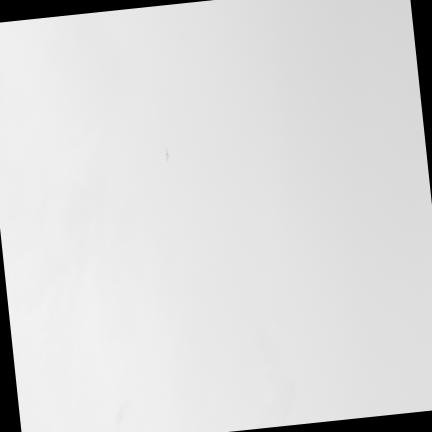Shahed: (166, 148, 169, 160)
